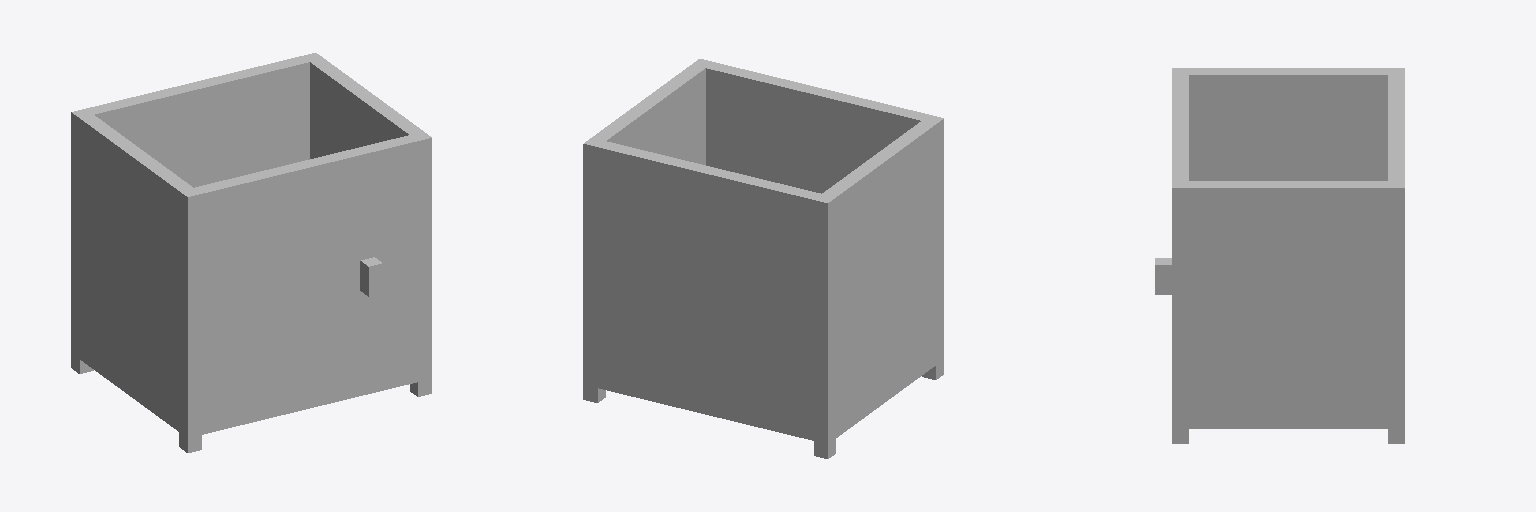
File: stall.obj
3 renders of one model, left to right at view 1: azimuth 30°, elevation 25°; view 2: azimuth 150°, elevation 25°; view 3: azimuth 270°, elevation 25°, orthographic.
Parts seen in each view (by area): view 1: object 1; view 2: object 1; view 3: object 1.
Part boxes in pixels (left/top/right/bottom): object 1: left=71, top=53, right=431, bottom=452; object 1: left=583, top=59, right=943, bottom=458; object 1: left=1155, top=68, right=1404, bottom=443.
Size of the model in its own units: 1.7 by 1.7 by 1.5.